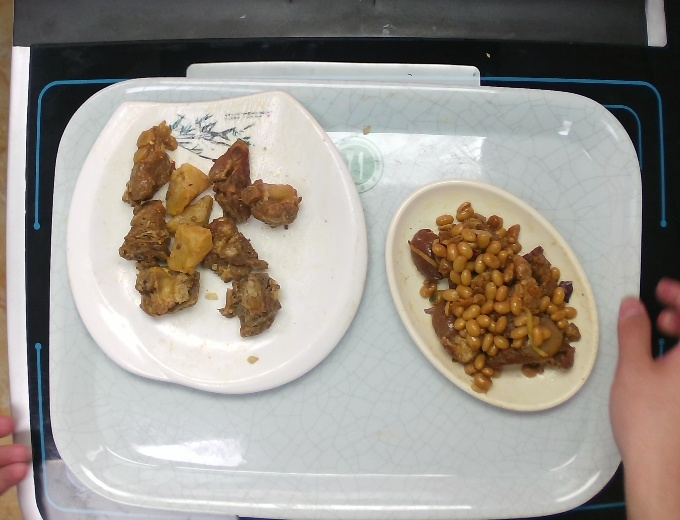JYsf-Mian_Pan: (63, 84, 370, 397)
JYsf-Tuo_Yuan_Wan: (384, 172, 601, 424)
